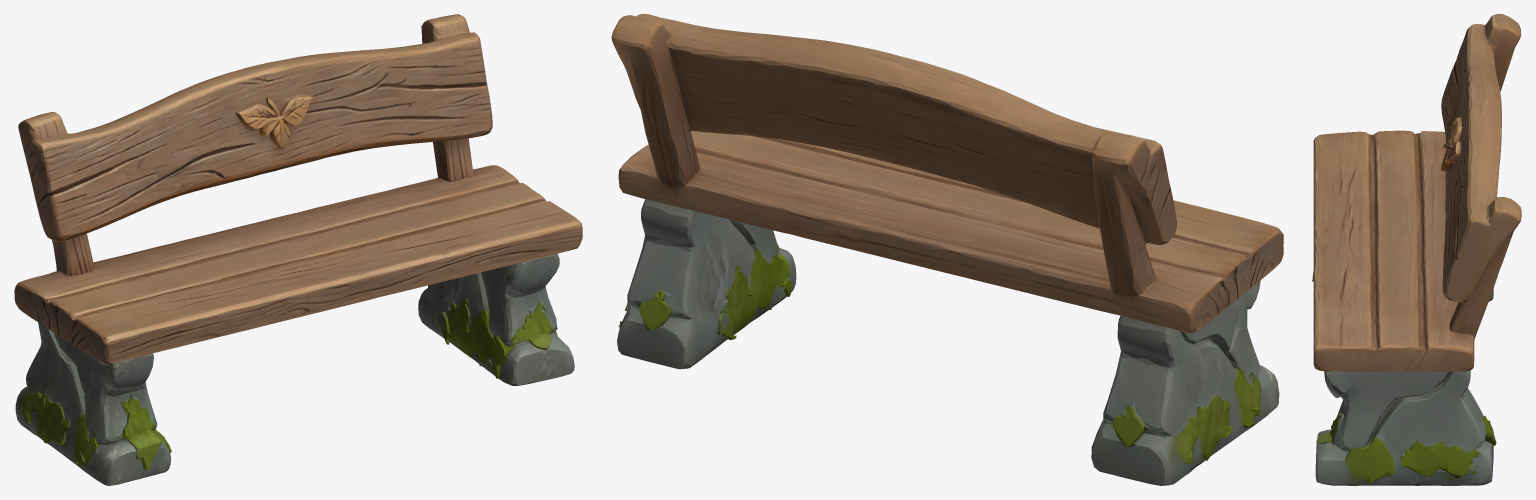
3 views of the same model, side by side, from view 1: azimuth 30°, elevation 25°; view 2: azimuth 150°, elevation 25°; view 3: azimuth 270°, elevation 25° (orthographic). The views are drawn at different scales.
Visible parts, largest first — view 1: Mesh; view 2: Mesh; view 3: Mesh.
Part boxes in pixels (box(x1,y1,x2,y2)): Mesh: box(14, 14, 582, 485); Mesh: box(611, 14, 1283, 485); Mesh: box(1312, 14, 1521, 485).
Bounding box in the file's own units: 1.9 × 1.13 × 0.7672.
Materials: 1 (1 with a texture image).
